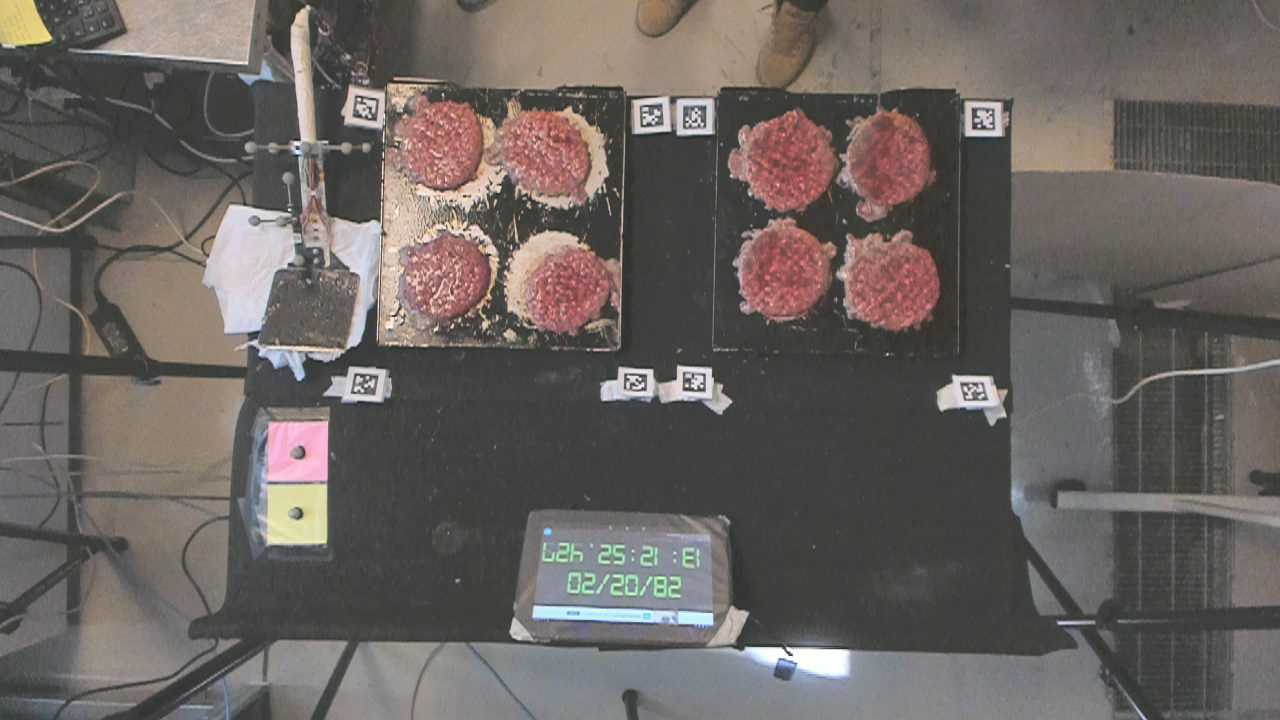hamburger: (741, 114, 829, 211), (739, 228, 826, 324), (850, 241, 941, 330), (495, 111, 588, 197), (520, 247, 612, 332), (848, 112, 928, 208), (402, 237, 486, 326), (401, 101, 481, 190)
marker: (267, 422, 328, 481)
